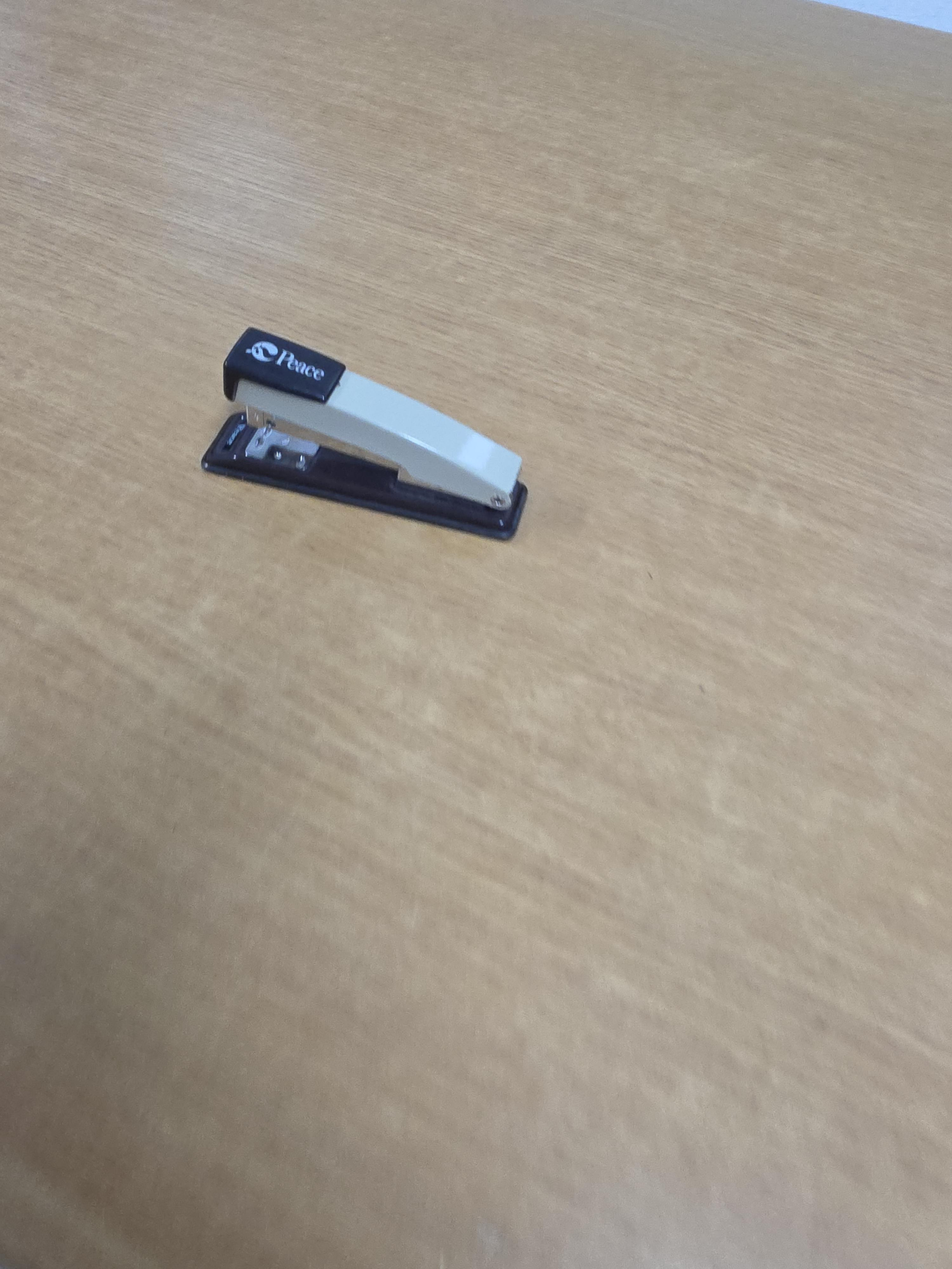stapler: (200, 326, 529, 541)
